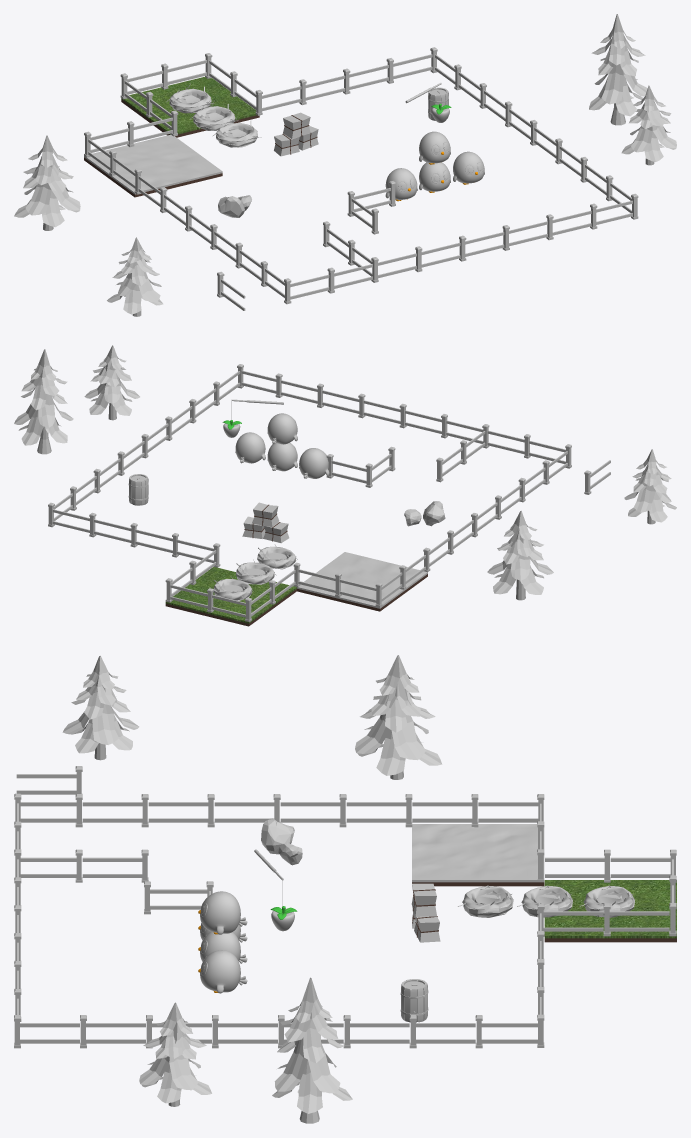
Rendered from _PetalMeadow_item.fbx.
3 renders of one model, top to bottom at view 1: azimuth 30°, elevation 25°; view 2: azimuth 150°, elevation 25°; view 3: azimuth 270°, elevation 25°, orthographic. The views are drawn at different scales.
Visible parts, largest first — view 1: map, Text.001_0.005, tree2, grass, tree1, Text.001_0.004, Text.001_0.002, tree3, tree4, Text.001_0.009, Text.001_0.003, Text.001_0.007 (+13 smaller); view 2: map, Text.001_0.005, tree2, tree1, grass, Text.001_0.002, Text.001_0.004, tree3, tree4, Text.001_0.009, Text.001_0.003, Text.001_0.007 (+12 smaller); view 3: map, Text.001_0.002, Text.001_0.004, grass, tree2, tree1, tree4, tree3, Text.001_0.008, Text.001_0.010, Text.001_0.005, purple_bird_body.001 (+10 smaller).
Part boxes in pixels (x1=…): map: x1=84, y1=134, x2=222, y2=197; Text.001_0.005: x1=284, y1=200, x2=632, y2=304; tree2: x1=589, y1=14, x2=647, y2=125; grass: x1=121, y1=77, x2=259, y2=137; tree1: x1=14, y1=135, x2=80, y2=230; Text.001_0.004: x1=435, y1=54, x2=638, y2=219; Text.001_0.002: x1=84, y1=131, x2=284, y2=297; tree3: x1=621, y1=85, x2=676, y2=165; tree4: x1=107, y1=237, x2=163, y2=316; Text.001_0.009: x1=262, y1=47, x2=437, y2=111; Text.001_0.003: x1=90, y1=110, x2=178, y2=152; Text.001_0.007: x1=127, y1=53, x2=212, y2=94; map: x1=297, y1=552, x2=427, y2=611; Text.001_0.005: x1=241, y1=370, x2=571, y2=468; tree2: x1=14, y1=349, x2=73, y2=454; tree1: x1=487, y1=511, x2=553, y2=600; grass: x1=165, y1=567, x2=296, y2=626; Text.001_0.002: x1=375, y1=451, x2=567, y2=607; Text.001_0.004: x1=54, y1=364, x2=243, y2=521; tree3: x1=84, y1=345, x2=139, y2=420; tree4: x1=624, y1=449, x2=676, y2=524; Text.001_0.009: x1=48, y1=502, x2=213, y2=562; Text.001_0.003: x1=293, y1=562, x2=376, y2=602; Text.001_0.007: x1=165, y1=578, x2=245, y2=617; map: x1=412, y1=824, x2=544, y2=886; Text.001_0.002: x1=20, y1=794, x2=544, y2=827; Text.001_0.004: x1=14, y1=1015, x2=537, y2=1048; grass: x1=544, y1=880, x2=676, y2=942; tree2: x1=272, y1=977, x2=352, y2=1123; tree1: x1=355, y1=655, x2=442, y2=779; tree4: x1=62, y1=656, x2=139, y2=760; tree3: x1=139, y1=1002, x2=211, y2=1106; Text.001_0.008: x1=537, y1=903, x2=669, y2=936; Text.001_0.010: x1=20, y1=849, x2=148, y2=882; Text.001_0.005: x1=14, y1=793, x2=21, y2=1021; purple_bird_body.001: x1=200, y1=891, x2=247, y2=934.
Size of what is drawn, in the model's own units: 691 by 117 by 499.
